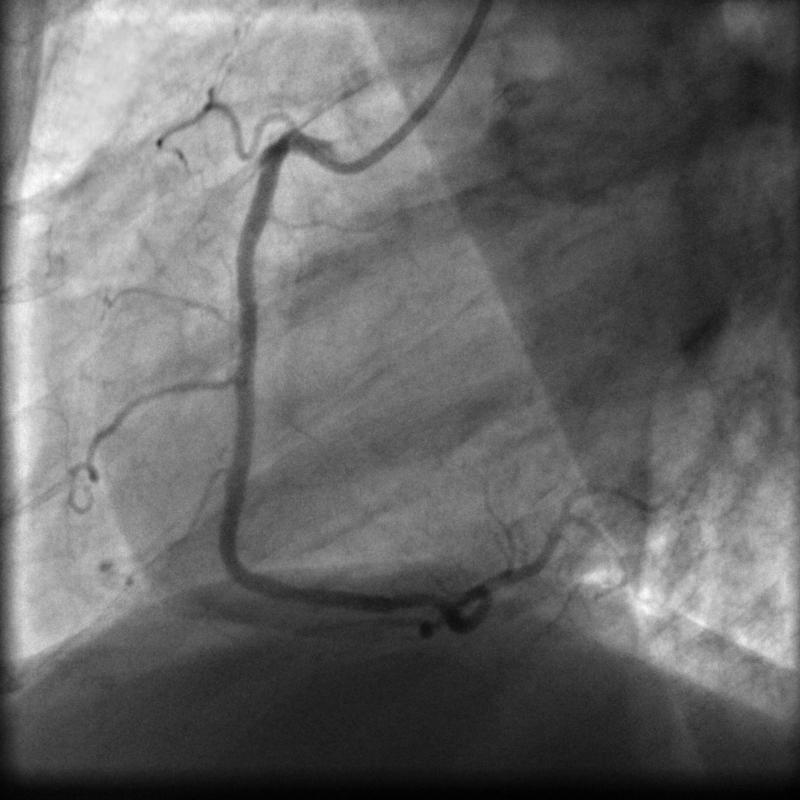Stenosis: (395, 581, 440, 619)
